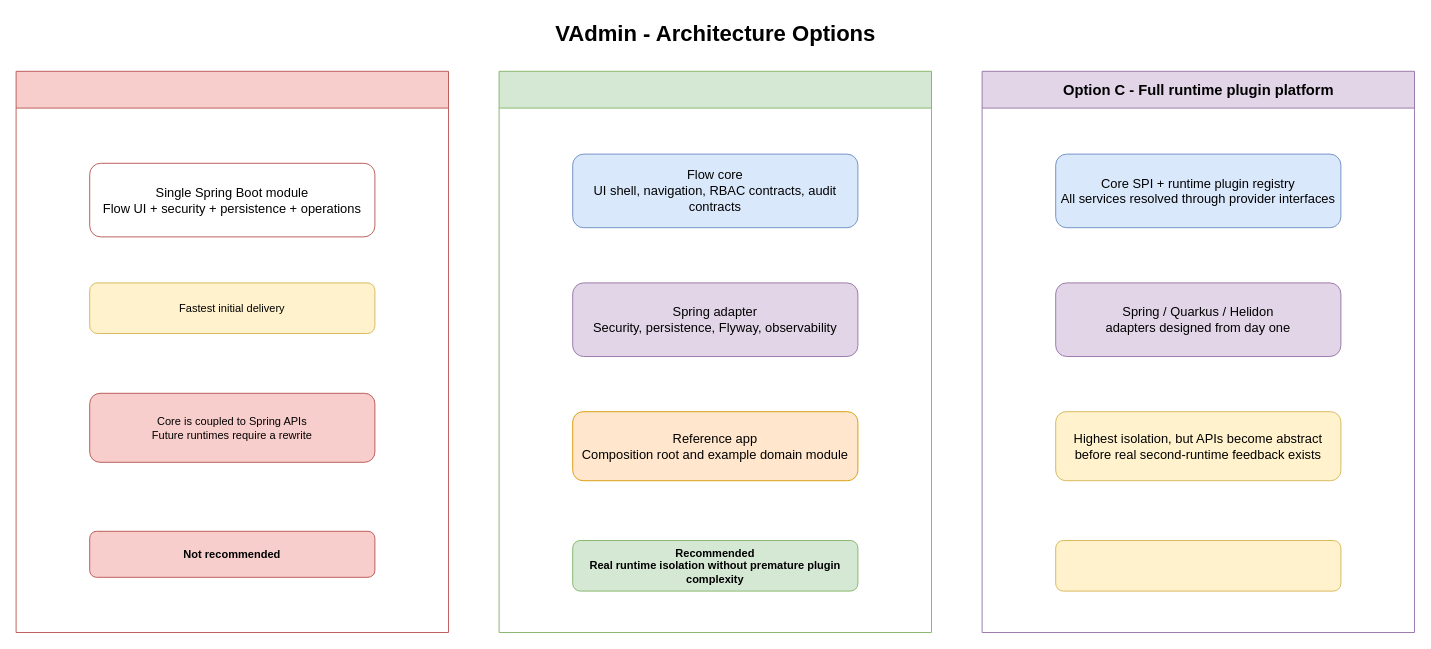
Some shapes in this 1431 by 649 pixel diagram are drawn without their labels. The box of each missing label's shape, as (x1, y1, x2, y2) in pixels:
Defer until a second runtime is needed: (1055, 540, 1341, 591)
Option A - Spring-first monolith: (15, 70, 448, 632)
Option B - Modular monolith: (498, 70, 932, 632)
